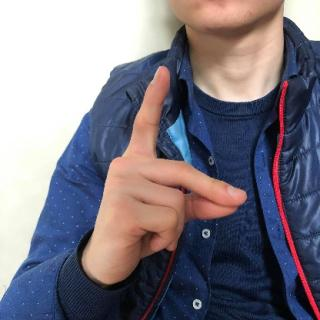TAA: (86, 64, 251, 284)
